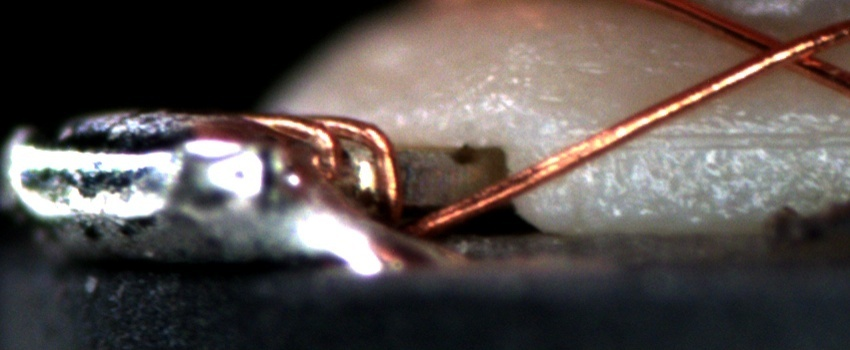CL: (729, 24, 842, 77)
DL: (569, 108, 850, 169)
TE: (236, 108, 418, 236)
